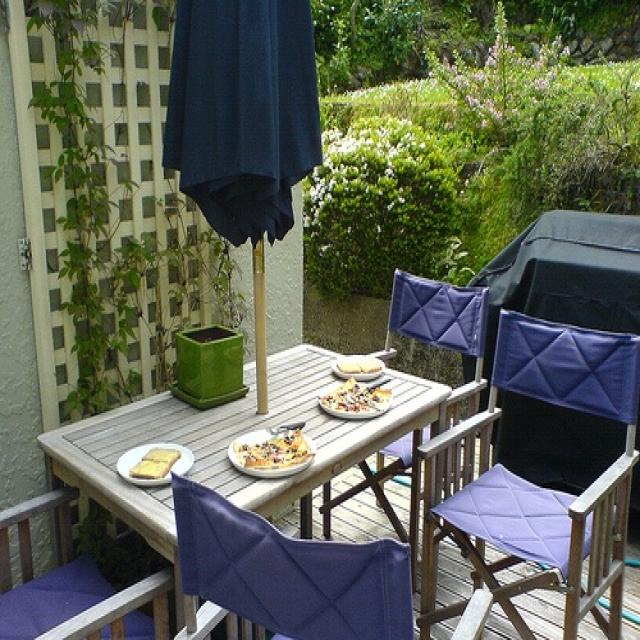chair: (417, 302, 639, 638), (166, 468, 494, 638), (322, 263, 492, 548), (0, 482, 175, 638)
